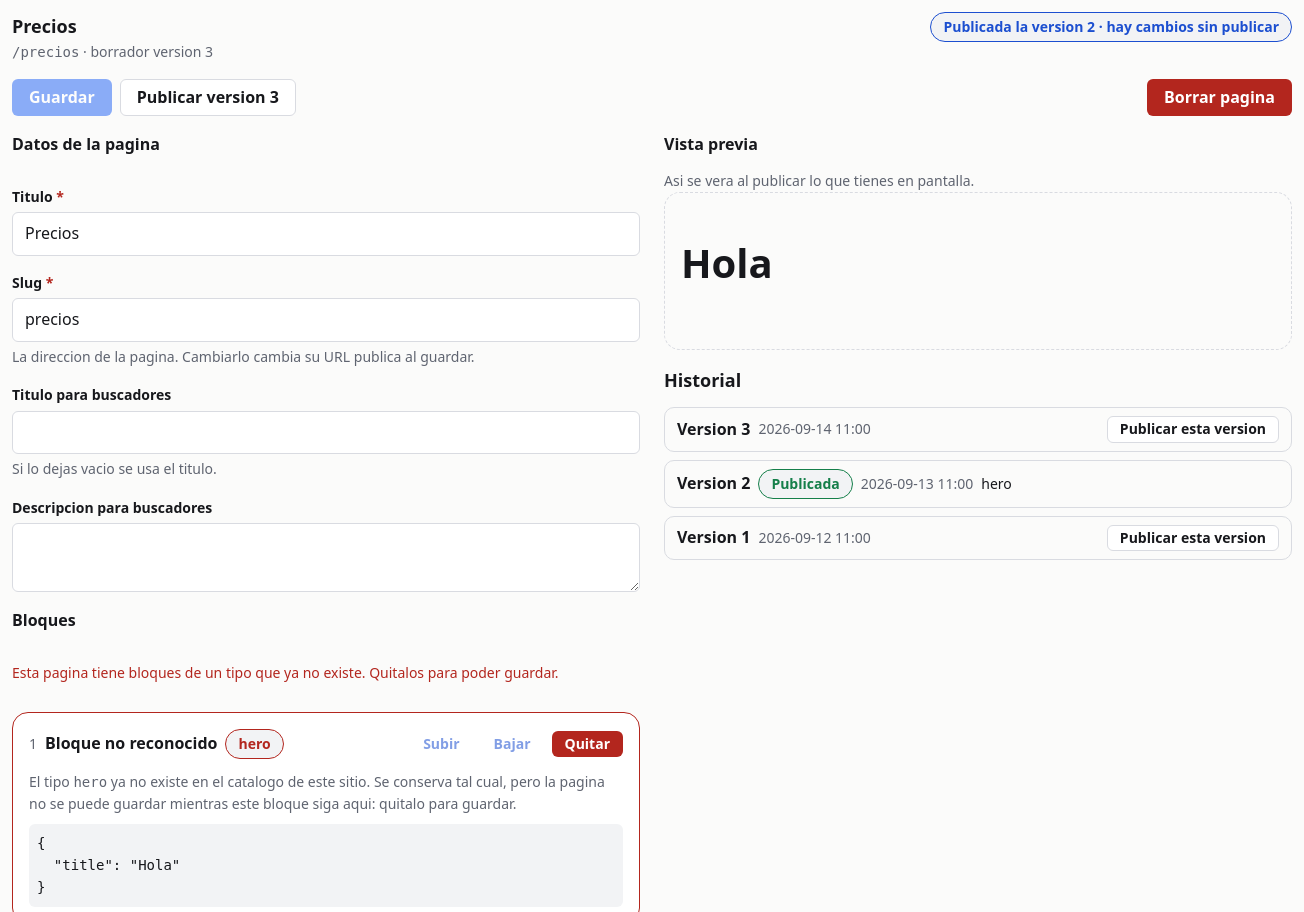
it: EditorDePagina: publicar › publica el borrador guardado
What coordinates should you click on to do the following:
click the button "Publicar version 3"
I would click on:
 (208, 98)
Its box is x1=120 y1=79 x2=296 y2=116.
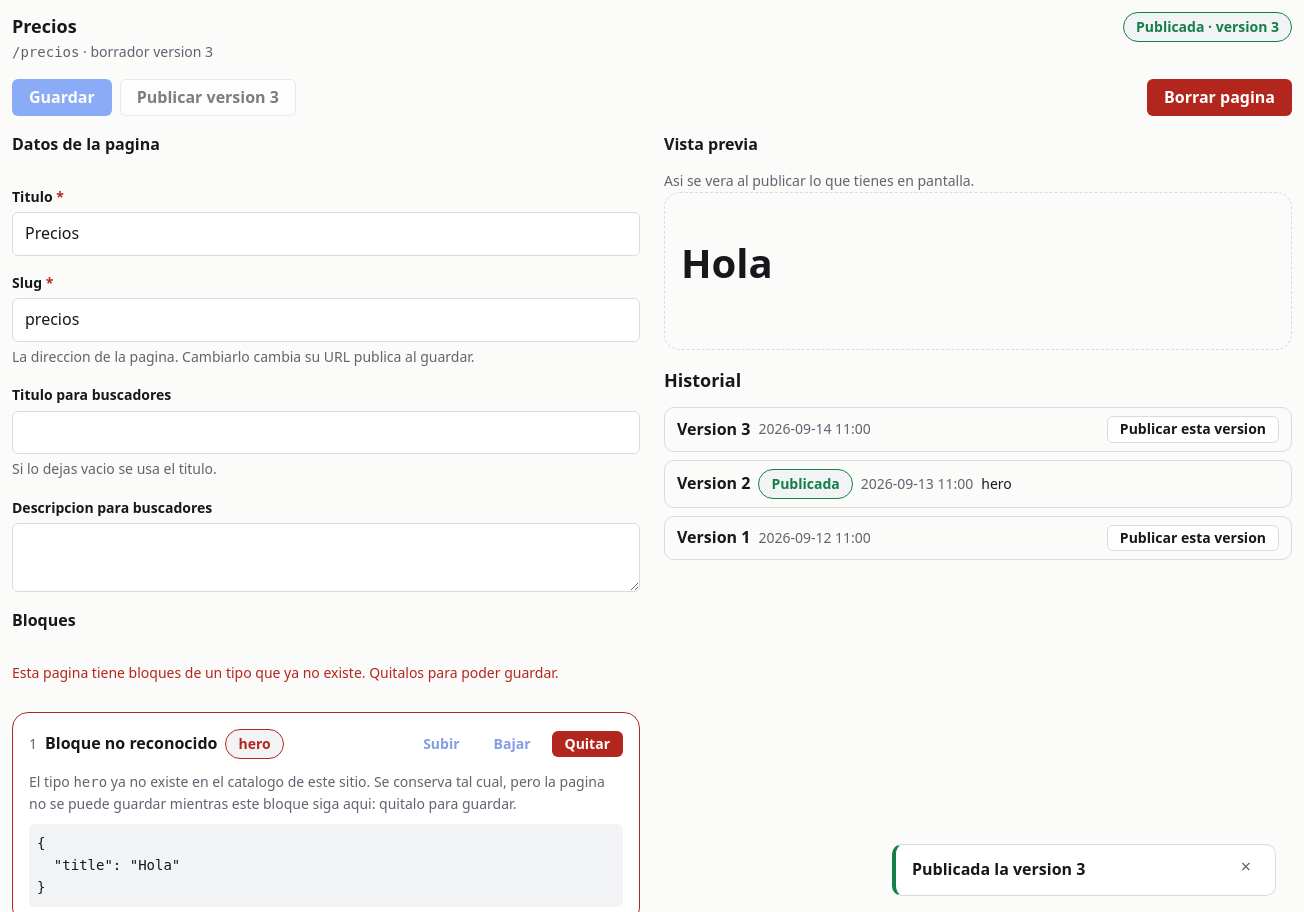
Expected: the text "Publicada · version 3" is shown, x1=1123 y1=12 x2=1292 y2=42
